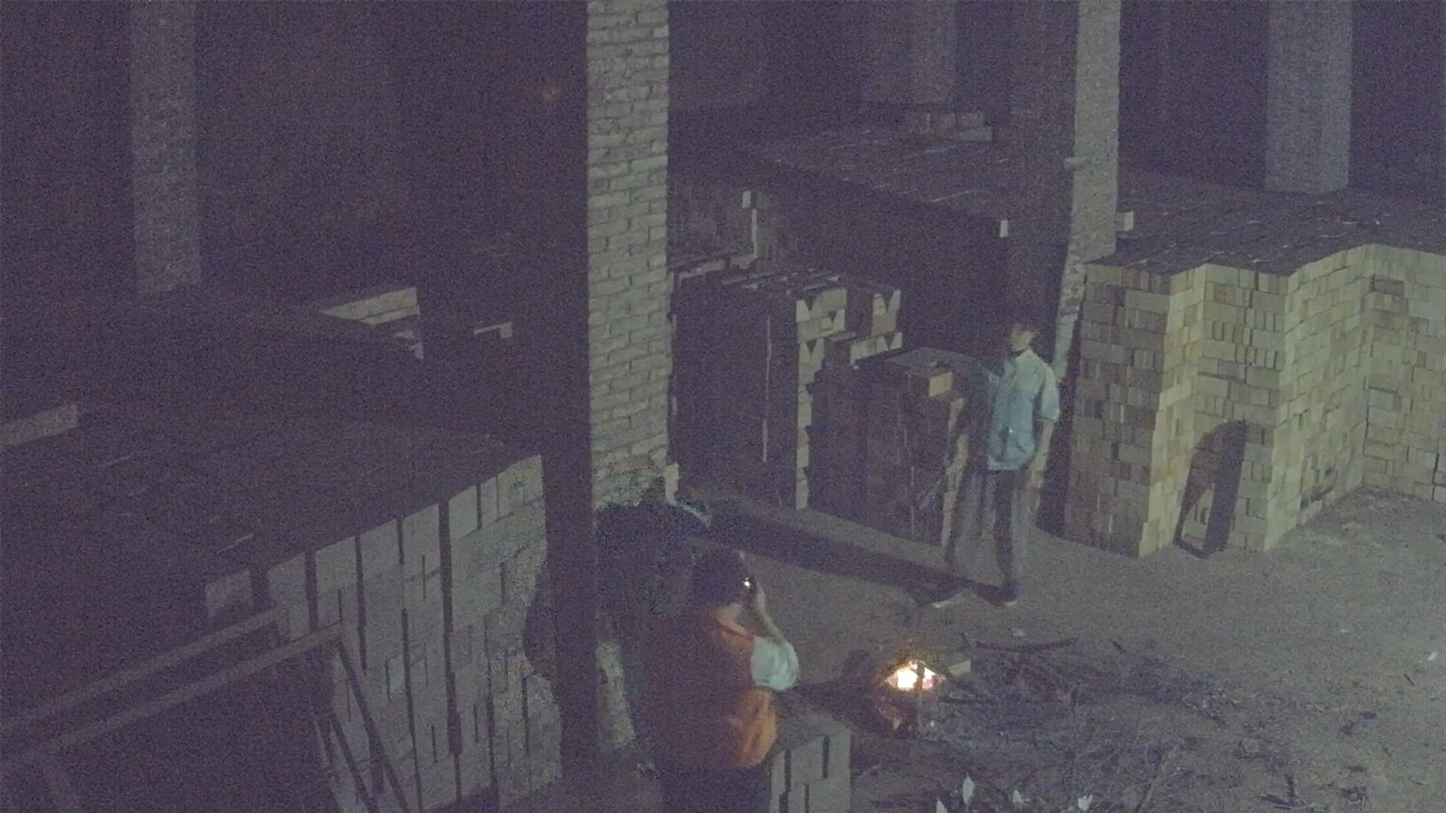fire: (882, 658, 944, 694)
